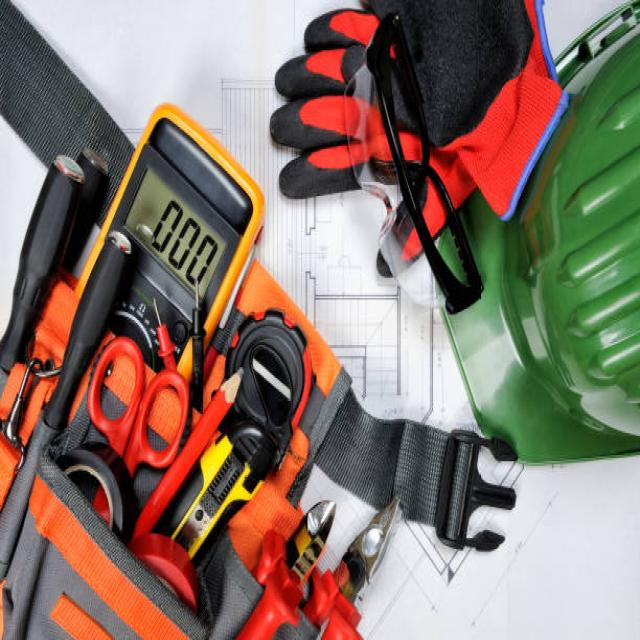Gloves: (268, 0, 569, 301)
